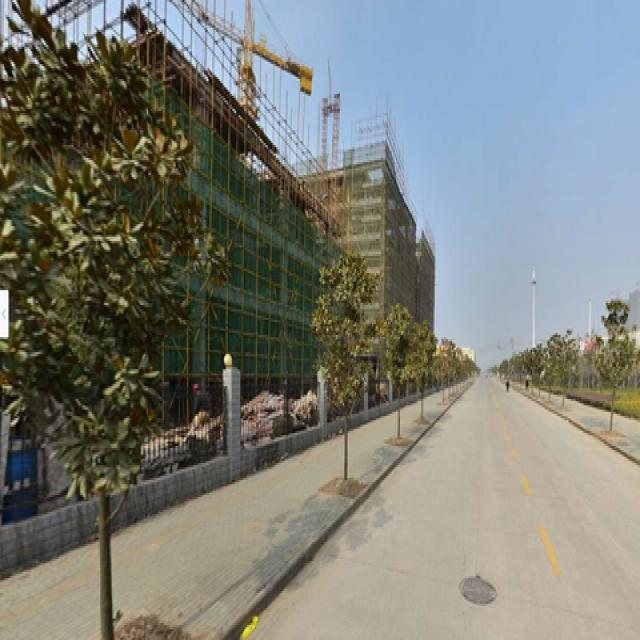magn: (4, 15, 203, 634)
